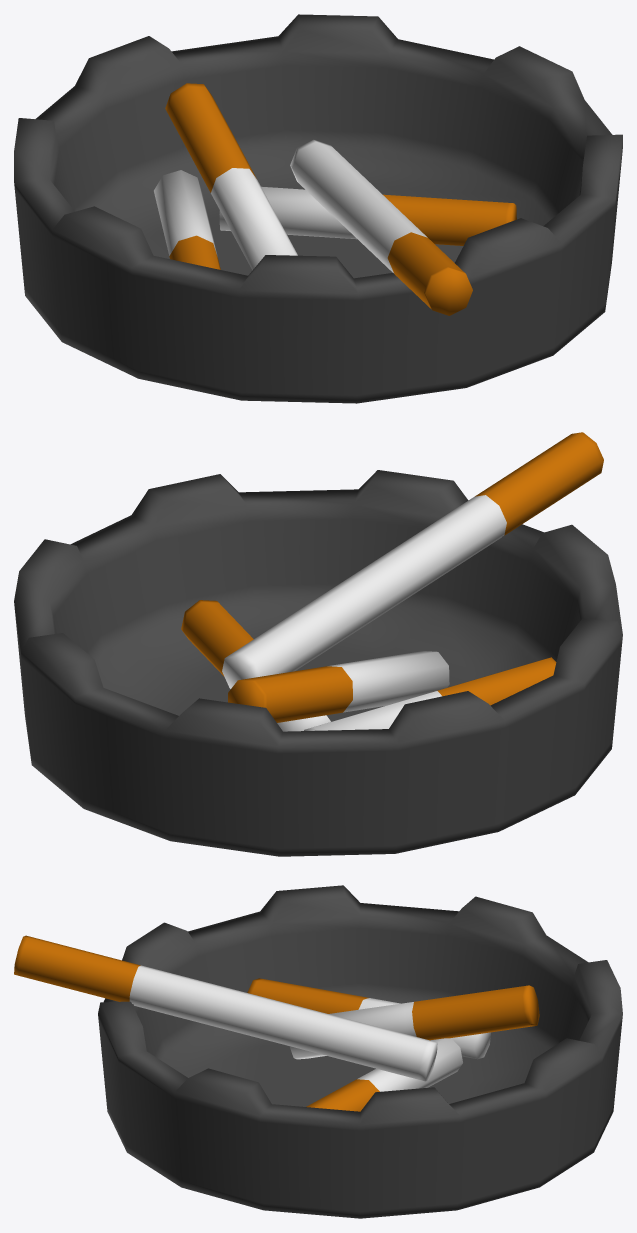
Rendered from ash_tray.glb.
The picture shows the model from 3 angles, top to bottom: view 1: azimuth 30°, elevation 25°; view 2: azimuth 150°, elevation 25°; view 3: azimuth 270°, elevation 25°; orthographic projection. The views are drawn at different scales.
Visible parts, largest first — view 1: AshTray; view 2: AshTray; view 3: AshTray.
Boxes of the visible parts, box(x1,y1,x2,y2) form: AshTray: box(14, 14, 622, 403); AshTray: box(14, 432, 622, 856); AshTray: box(14, 885, 622, 1218).
Bounding box in the file's own units: 0.1685 × 0.052 × 0.1954.
